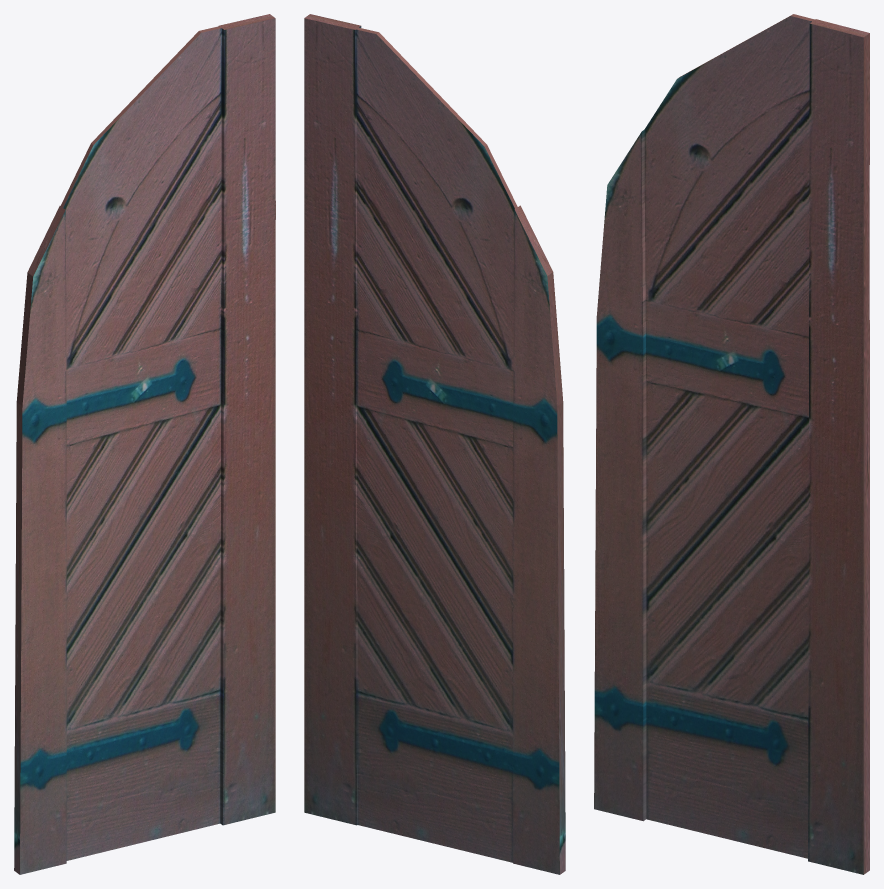
File: DoorLeft.gltf
3 renders of one model, left to right at view 1: azimuth 30°, elevation 25°; view 2: azimuth 150°, elevation 25°; view 3: azimuth 330°, elevation 25°, orthographic. The views are drawn at different scales.
Visible parts, largest first — view 1: gate-big-part-1; view 2: gate-big-part-1; view 3: gate-big-part-1.
Boxes of the visible parts, x1=… form: gate-big-part-1: x1=14, y1=14, x2=275, y2=874; gate-big-part-1: x1=304, y1=14, x2=565, y2=874; gate-big-part-1: x1=594, y1=14, x2=869, y2=874.
Bounding box in the file's own units: 1.15 × 3.41 × 0.0484.
Materials: 1 (1 with a texture image).
